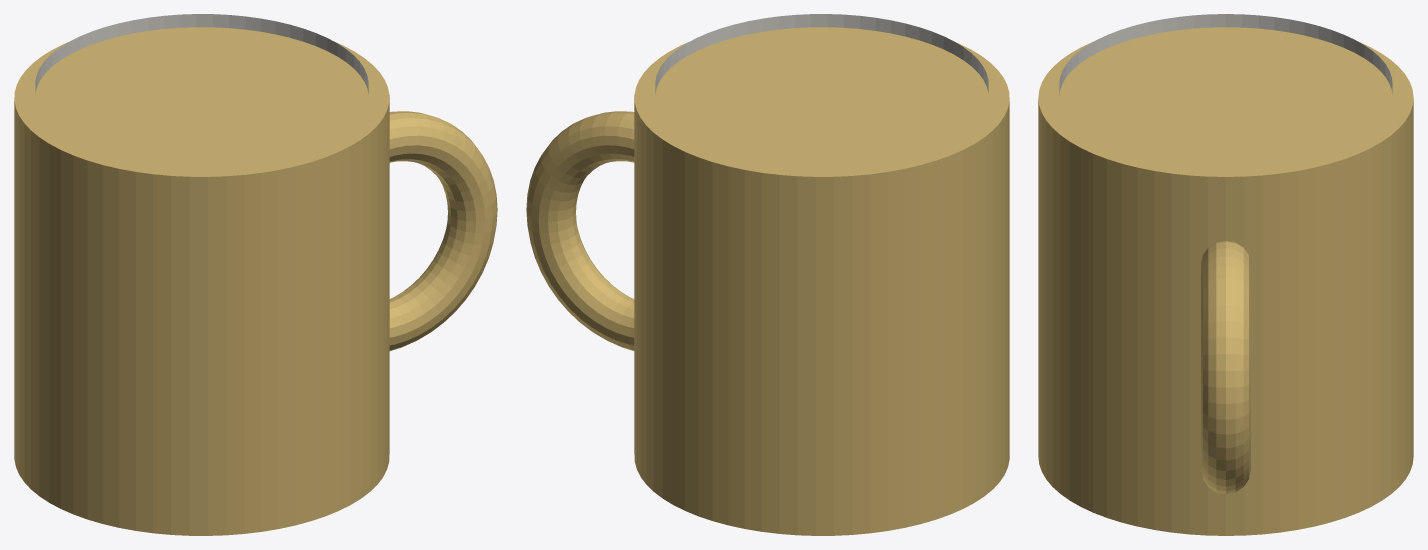
File: mug.glb
The picture shows the model from 3 angles, left to right: view 1: azimuth 30°, elevation 25°; view 2: azimuth 150°, elevation 25°; view 3: azimuth 270°, elevation 25°; orthographic projection.
Parts seen in each view (by area): view 1: geometry_0, geometry_2, geometry_1; view 2: geometry_0, geometry_2, geometry_1; view 3: geometry_0, geometry_2, geometry_1.
Part boxes in pixels (x1,y1,x2,y2): geometry_0: (14, 27, 389, 535); geometry_2: (389, 111, 497, 350); geometry_1: (35, 14, 368, 94); geometry_0: (634, 27, 1009, 535); geometry_2: (526, 111, 634, 350); geometry_1: (655, 14, 988, 94); geometry_0: (1038, 27, 1413, 535); geometry_2: (1201, 241, 1250, 494); geometry_1: (1059, 14, 1392, 94).
Bounding box in the file's own units: 0.126 × 0.0985 × 0.09.
